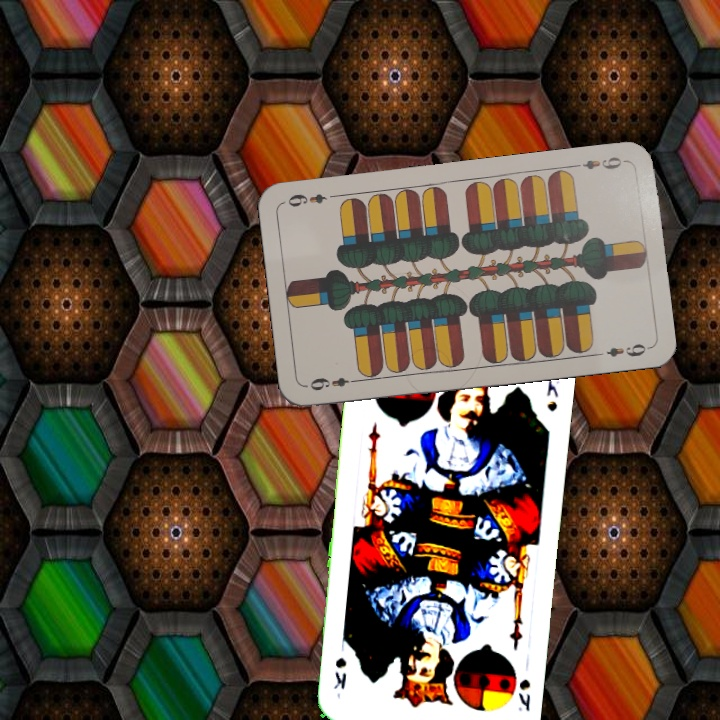E9: (569, 152, 629, 172), (306, 373, 362, 394)
SK: (514, 674, 533, 714)
